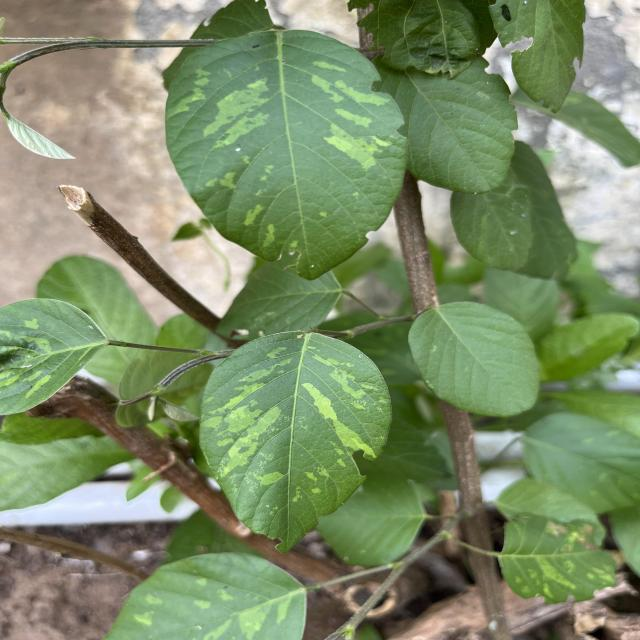Desmodium gangeticum: (161, 25, 414, 284), (196, 326, 396, 557)
